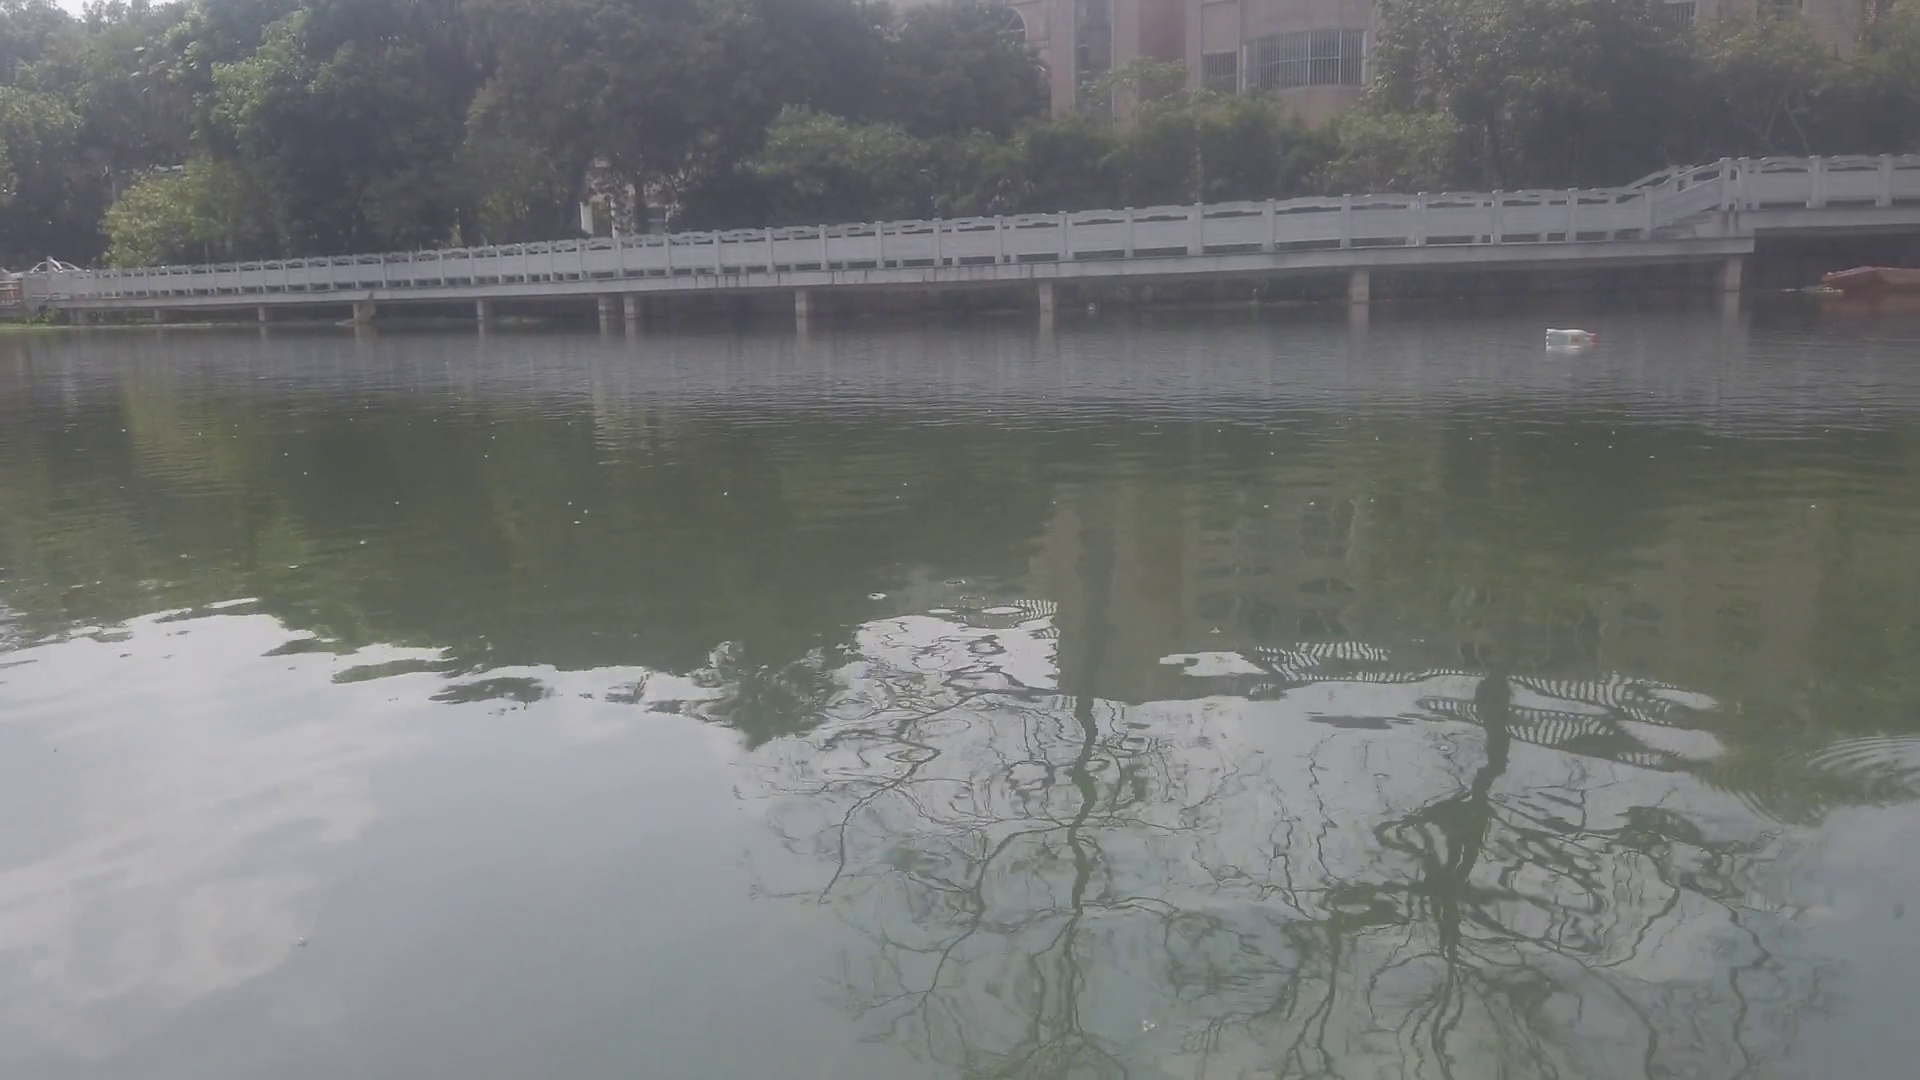bottle: (1545, 326, 1600, 343)
